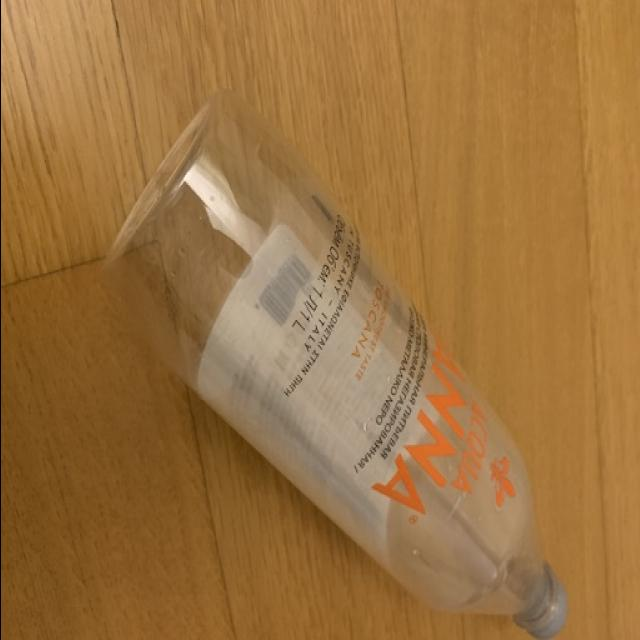litter: (103, 90, 572, 638)
